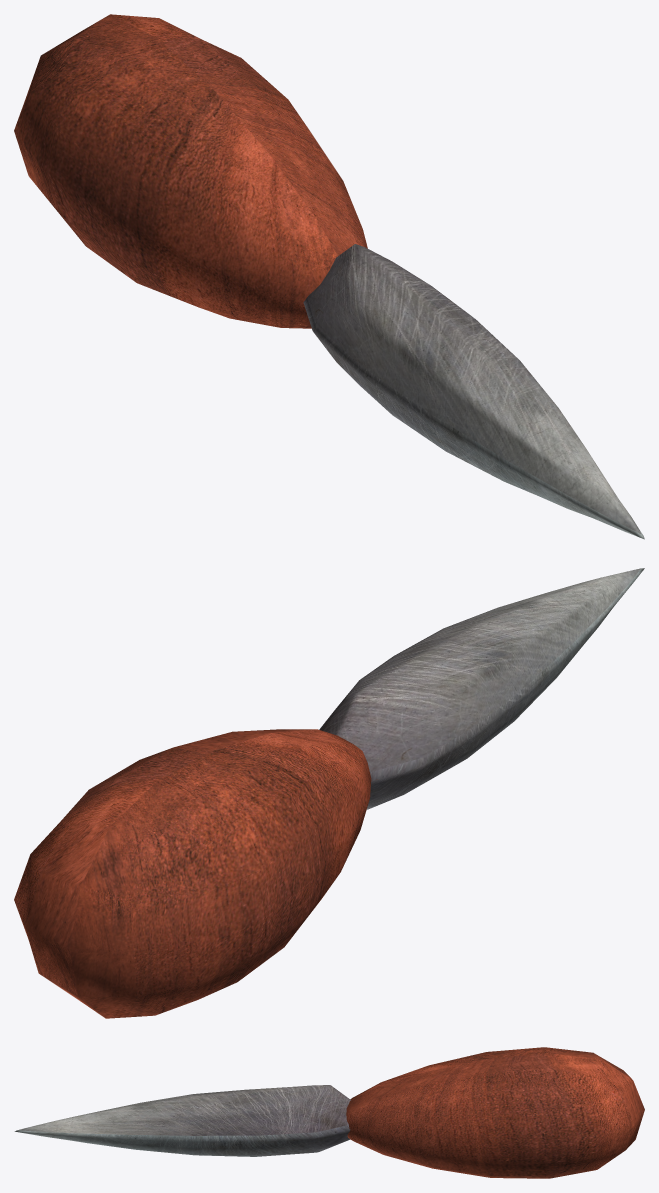
The model's file is smallknife.fbx.
3 views of the same model, one above another, from view 1: azimuth 30°, elevation 25°; view 2: azimuth 150°, elevation 25°; view 3: azimuth 270°, elevation 25° (orthographic). The views are drawn at different scales.
Visible parts, largest first — view 1: Cube.010; view 2: Cube.010; view 3: Cube.010.
Part boxes in pixels (x1,y1,x2,y2): Cube.010: [14, 14, 644, 539]; Cube.010: [14, 568, 644, 1018]; Cube.010: [14, 1047, 644, 1178].
Size of the model in its own units: 0.6325 by 0.6087 by 2.92.
